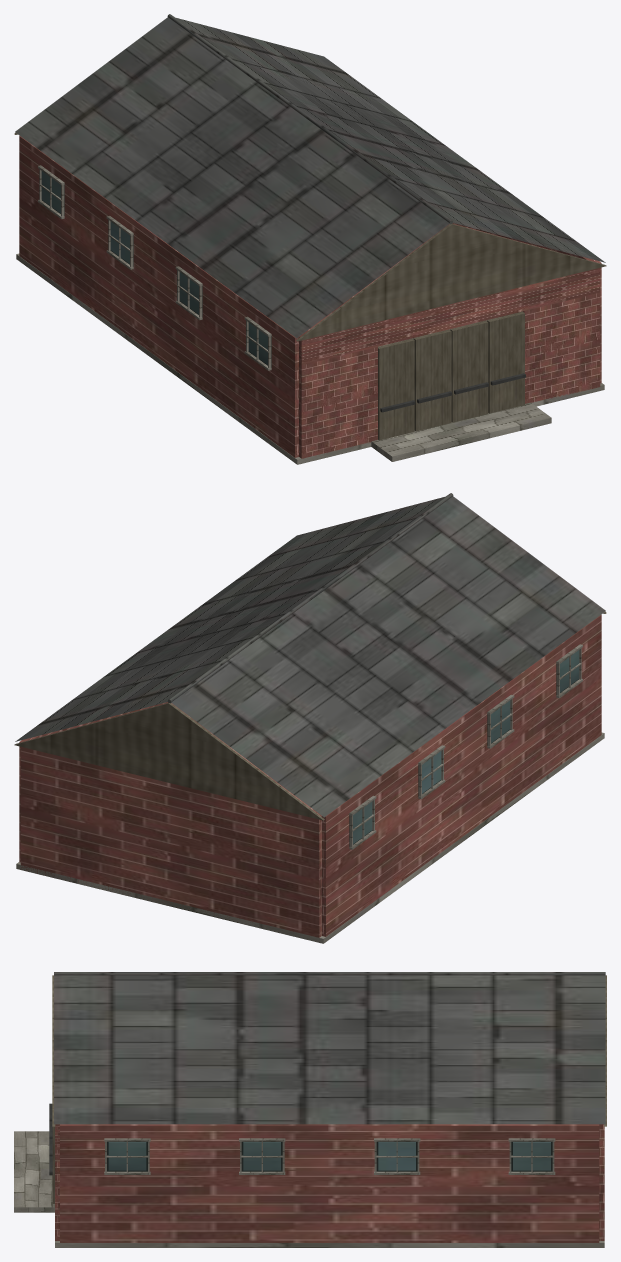
File: warehouse.glb
3 renders of one model, top to bottom at view 1: azimuth 30°, elevation 25°; view 2: azimuth 150°, elevation 25°; view 3: azimuth 270°, elevation 25°, orthographic. The views are drawn at different scales.
Visible parts, largest first — view 1: Backsteinlager; view 2: Backsteinlager; view 3: Backsteinlager.
Part boxes in pixels (x1,y1,x2,y2): Backsteinlager: (14, 14, 606, 464); Backsteinlager: (14, 493, 606, 943); Backsteinlager: (14, 972, 606, 1247).
Size of the model in its own units: 13.17 by 8.29 by 21.99.
Materials: 1 (1 with a texture image).
